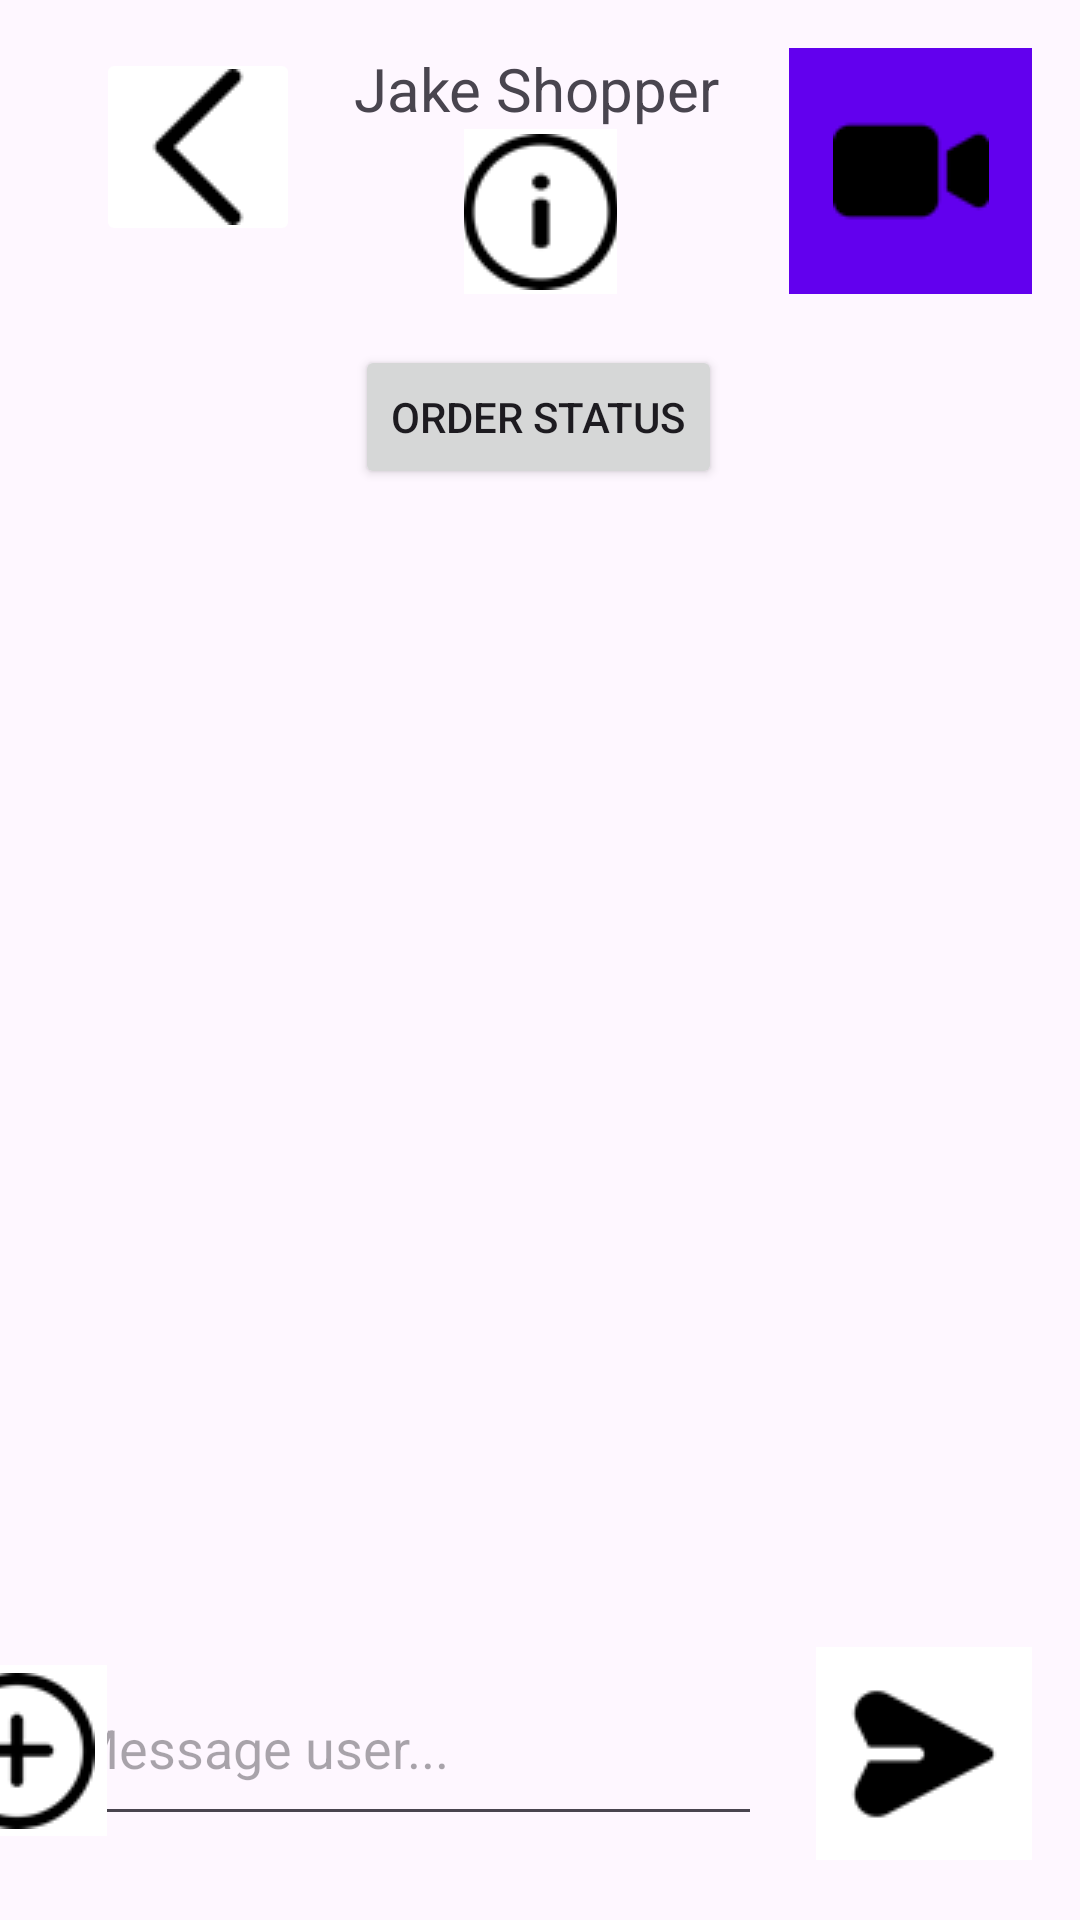

Screen size 1080 x 1920. Icon name, then its center in pixels as [x,y]:
back: [198,147]
info: [540,212]
paper: [923,1754]
videocamera: [910,171]
